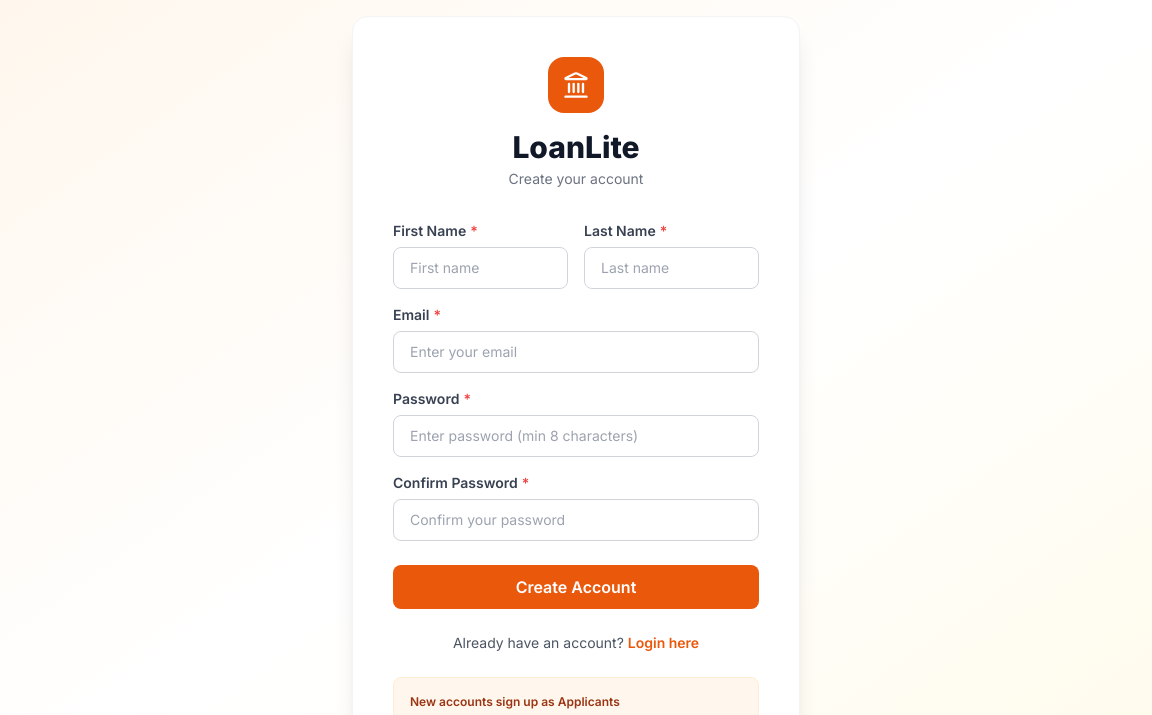
Scenario: Signup — validation › rejects submission when any required field is missing
Click the button "Create Account".
click(576, 587)  # box [393, 565, 759, 609]
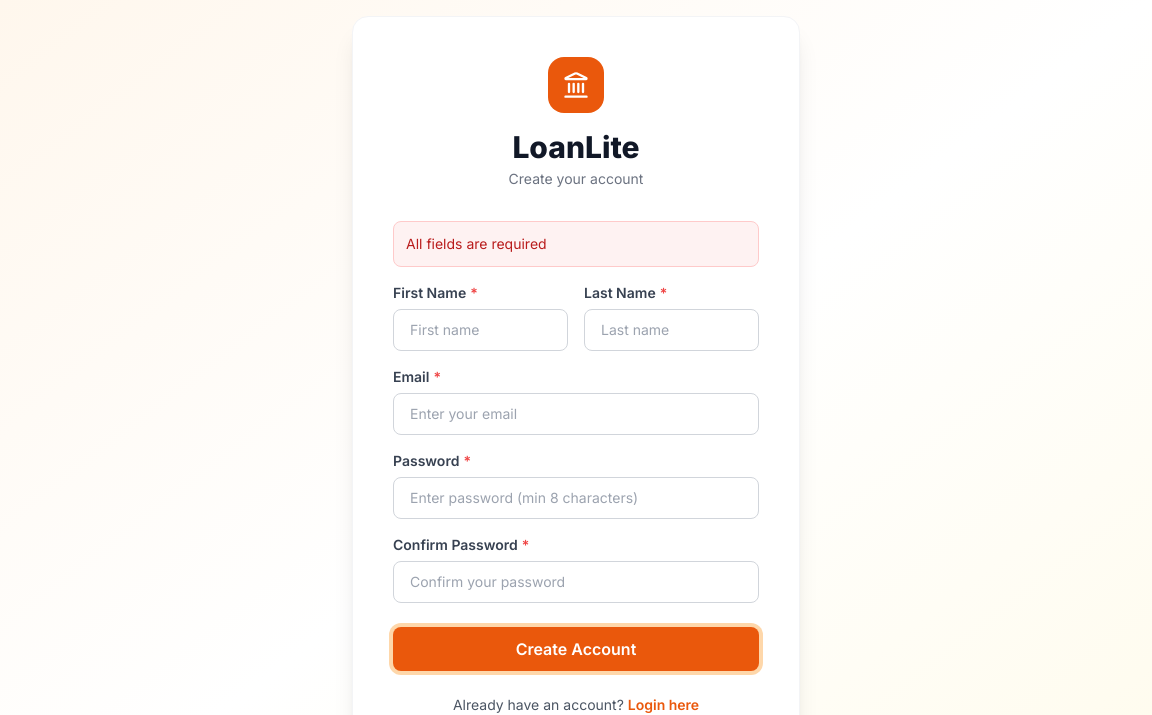
Check: the text "All fields are required" is shown, box [393, 221, 759, 267]
